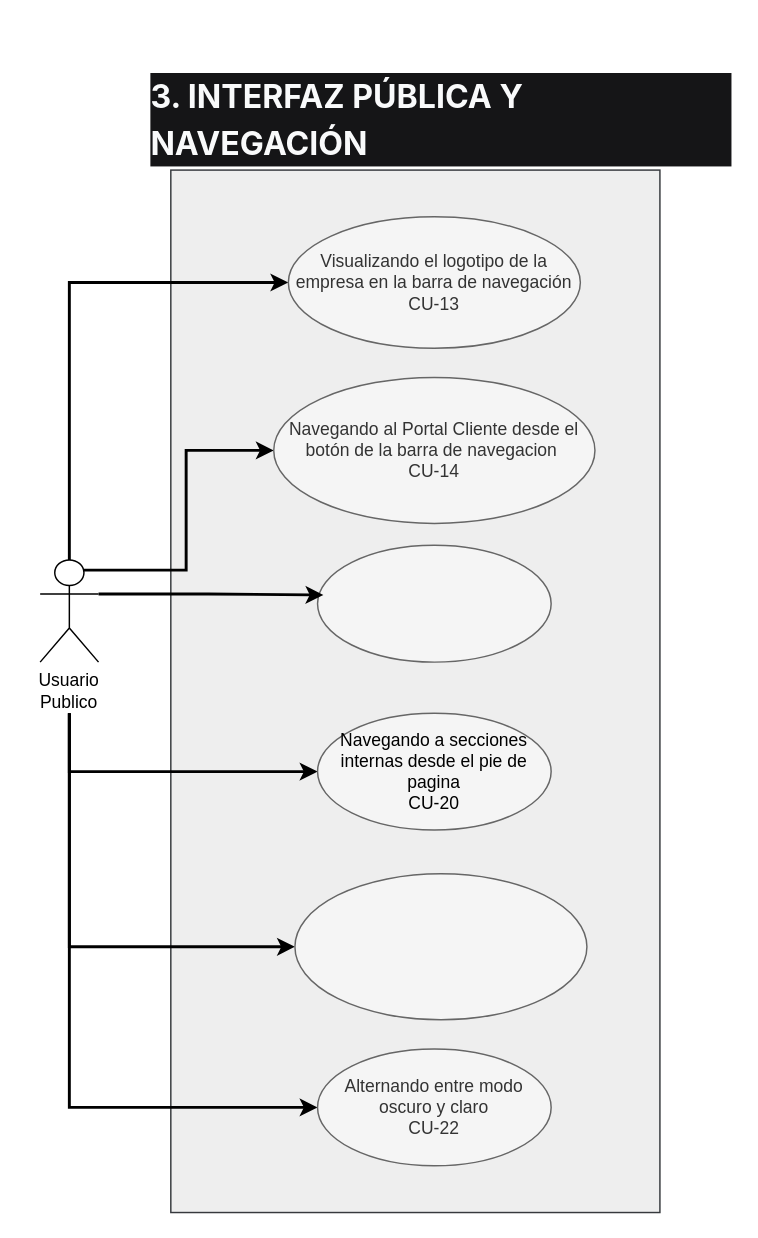
This 758x1238 diagram has some shape labels left out. Each missing label, with the centre of its shape:
"Accediendo a redes sociales de la empresa desde el pie de pagina CU-21" belongs at [440,946].
"Navegando manuelmante por el carrusel de imágenes CU-16" belongs at [433,603].
